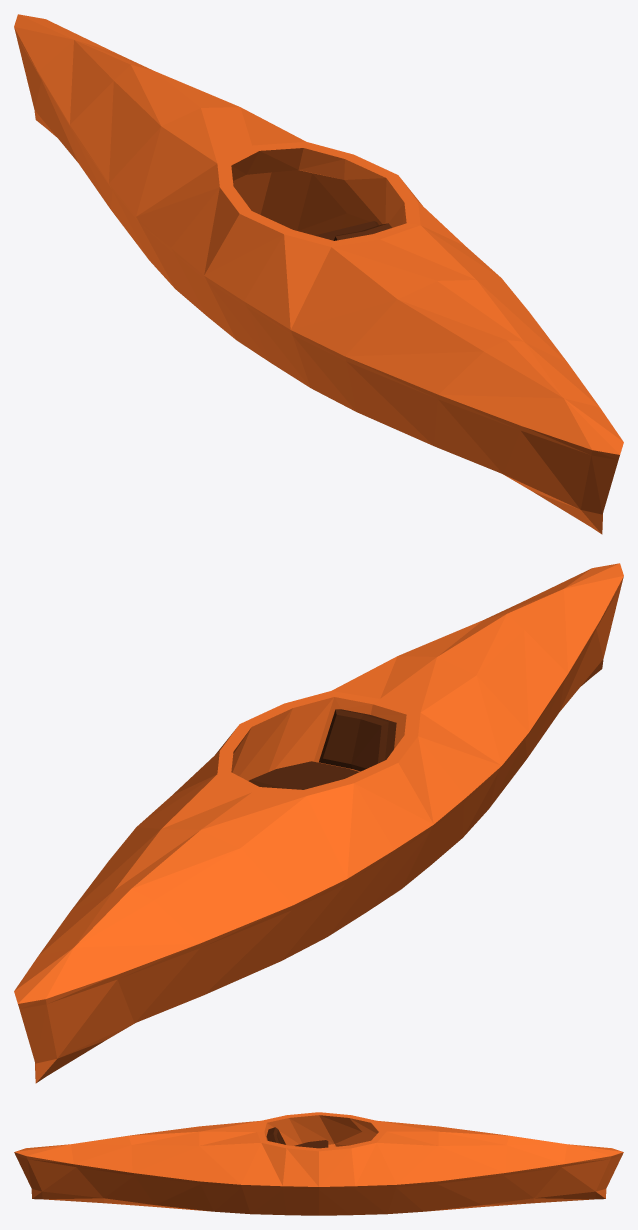
Rendered from 20qFHKv9i2Z.glb.
The picture shows the model from 3 angles, top to bottom: view 1: azimuth 30°, elevation 25°; view 2: azimuth 150°, elevation 25°; view 3: azimuth 270°, elevation 25°; orthographic projection. The views are drawn at different scales.
Parts seen in each view (by area): view 1: kayak; view 2: kayak; view 3: kayak.
Part boxes in pixels (<box>): kayak: <box>14,14,623,534</box>; kayak: <box>14,563,623,1083</box>; kayak: <box>14,1112,623,1215</box>.
Bounding box in the file's own units: 1.49 × 1 × 6.74.
Materials: 1 (1 with a texture image).
